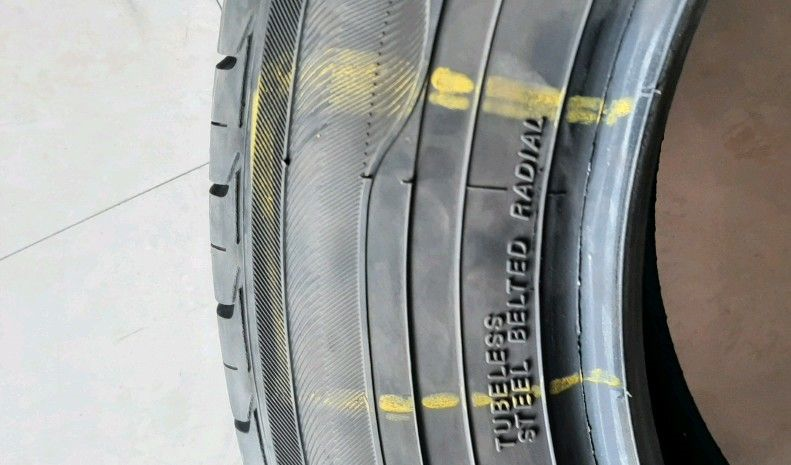CBU: (360, 116, 571, 332)
